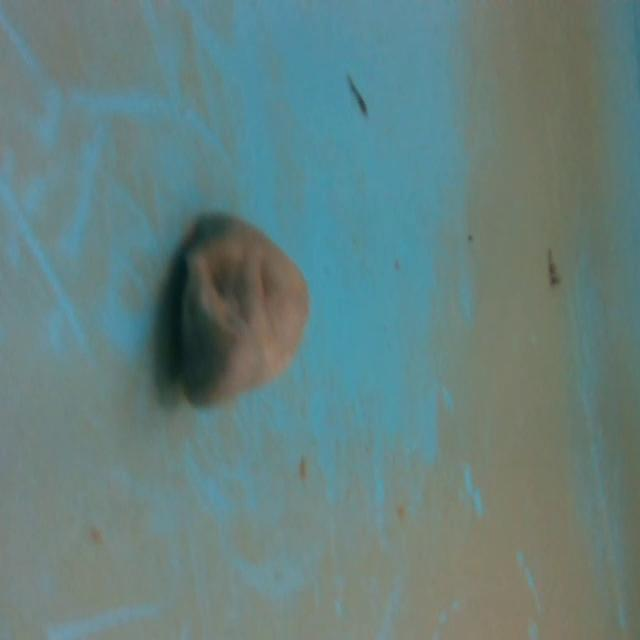rock: (162, 206, 318, 420)
